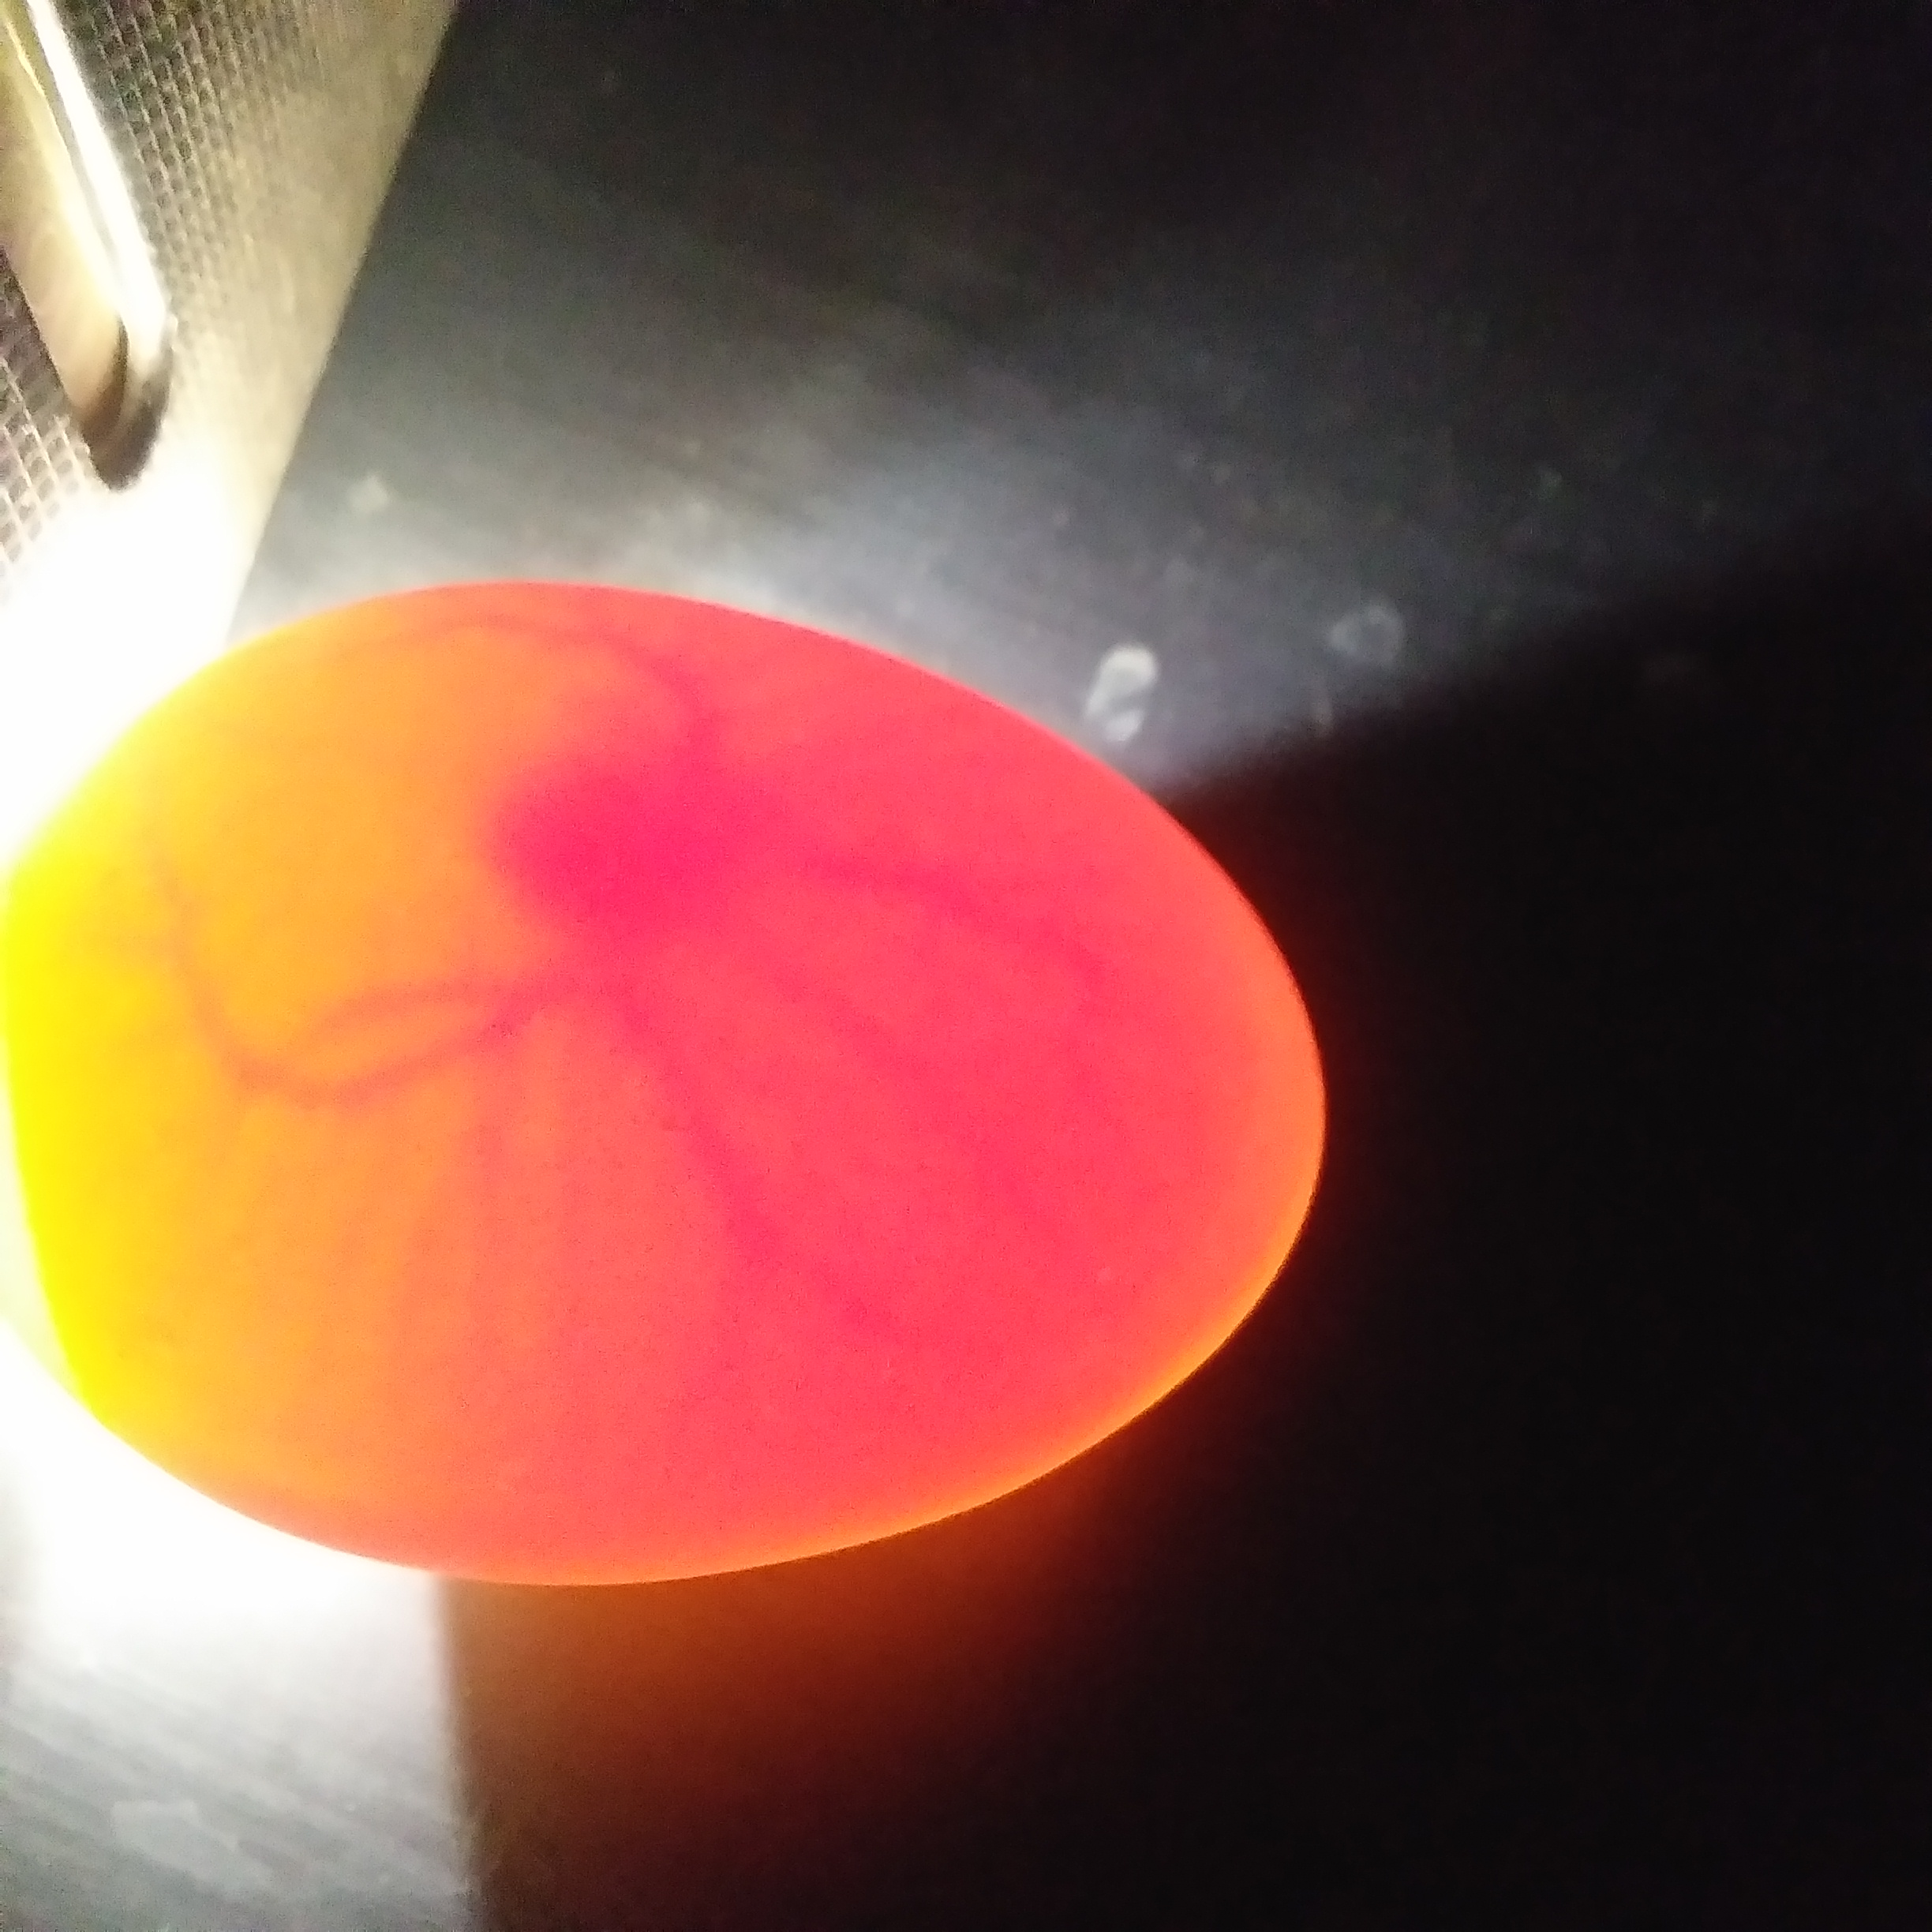bloodcell: (513, 954, 1010, 1353), (88, 872, 494, 1348), (426, 619, 801, 732)
embryo: (522, 782, 814, 925)
